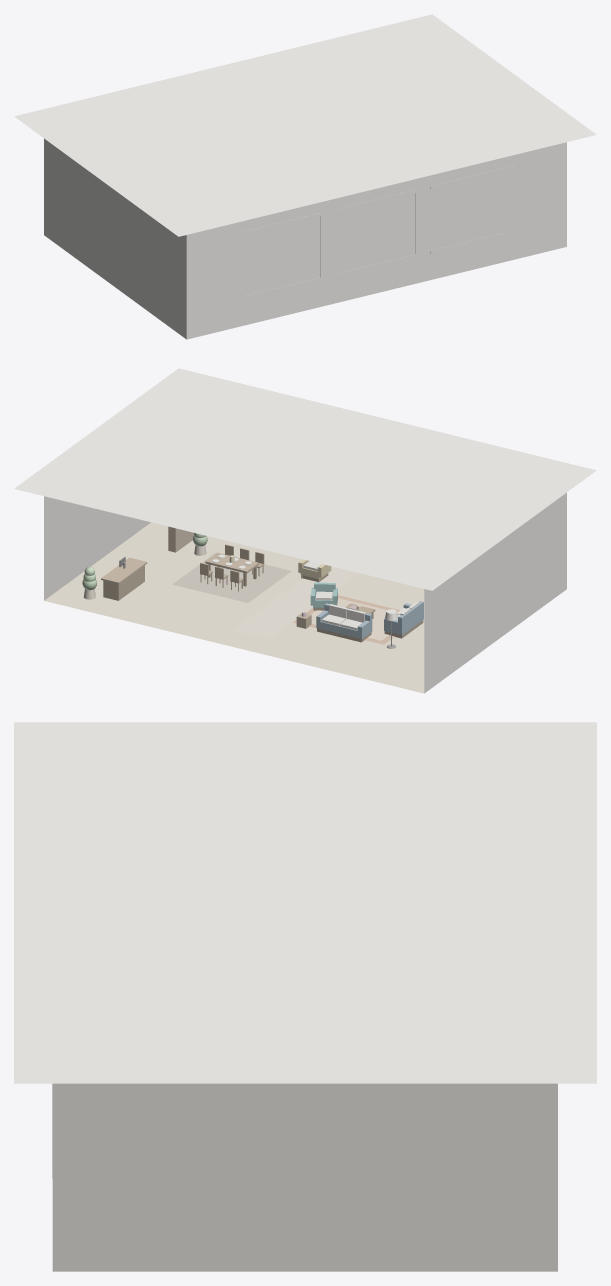
The picture shows the model from 3 angles, top to bottom: view 1: azimuth 30°, elevation 25°; view 2: azimuth 150°, elevation 25°; view 3: azimuth 270°, elevation 25°; orthographic projection. The views are drawn at different scales.
Bounding box in the file's own units: 22 × 5.8 × 15.
